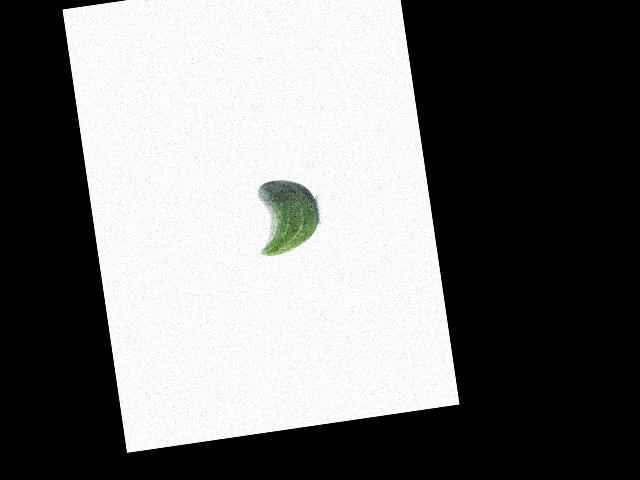cucumber: (250, 175, 323, 258)
